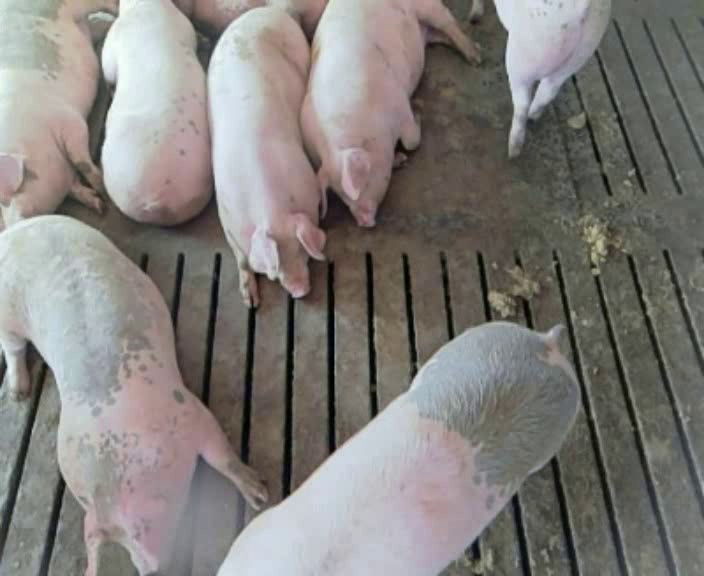pig: (219, 322, 579, 573), (301, 2, 479, 224), (208, 7, 324, 305), (102, 2, 212, 224)
